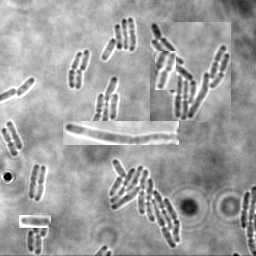Dividing: (63, 121, 179, 145), (155, 51, 176, 90), (67, 52, 81, 89), (1, 128, 18, 157), (34, 166, 47, 202), (19, 215, 51, 228), (28, 164, 39, 200), (239, 192, 249, 229)
Microcolony: (150, 22, 231, 121), (109, 158, 180, 249), (101, 18, 136, 61), (88, 76, 119, 121), (27, 214, 48, 255)
Rod: (5, 121, 23, 150), (16, 78, 34, 99), (79, 50, 89, 72), (73, 69, 82, 90)
